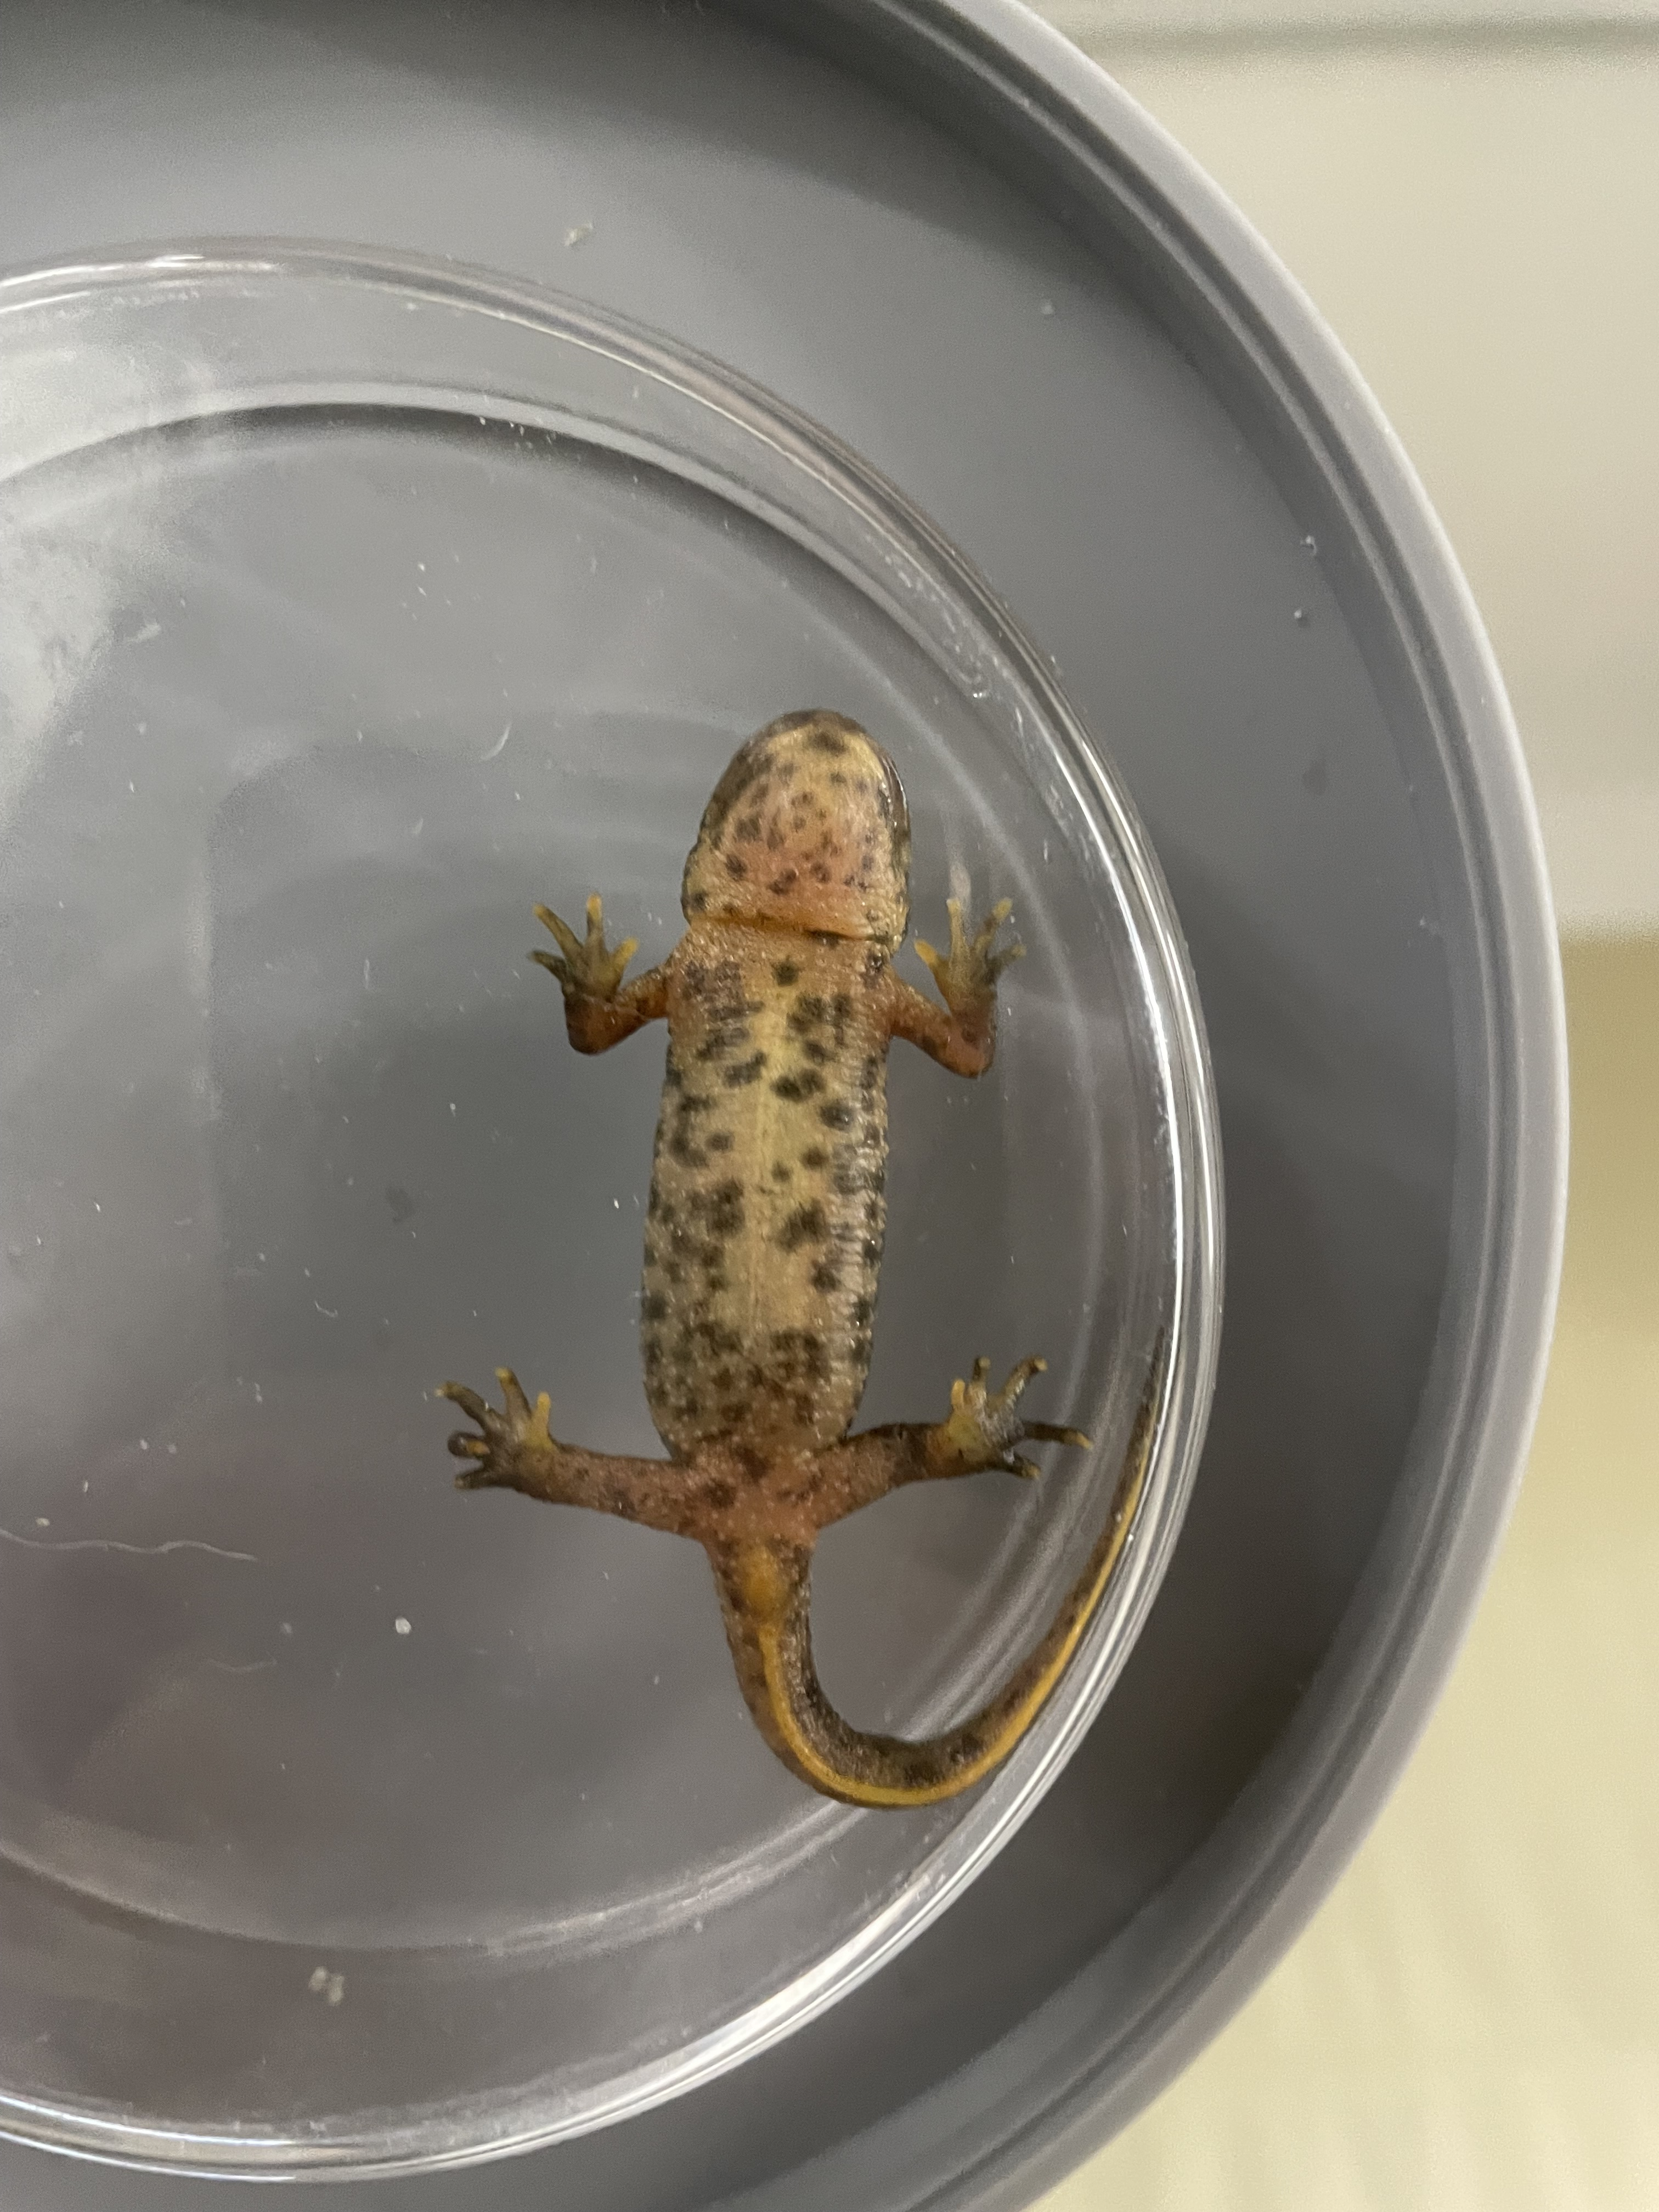newt_ribbed: (640, 1015, 894, 1458)
